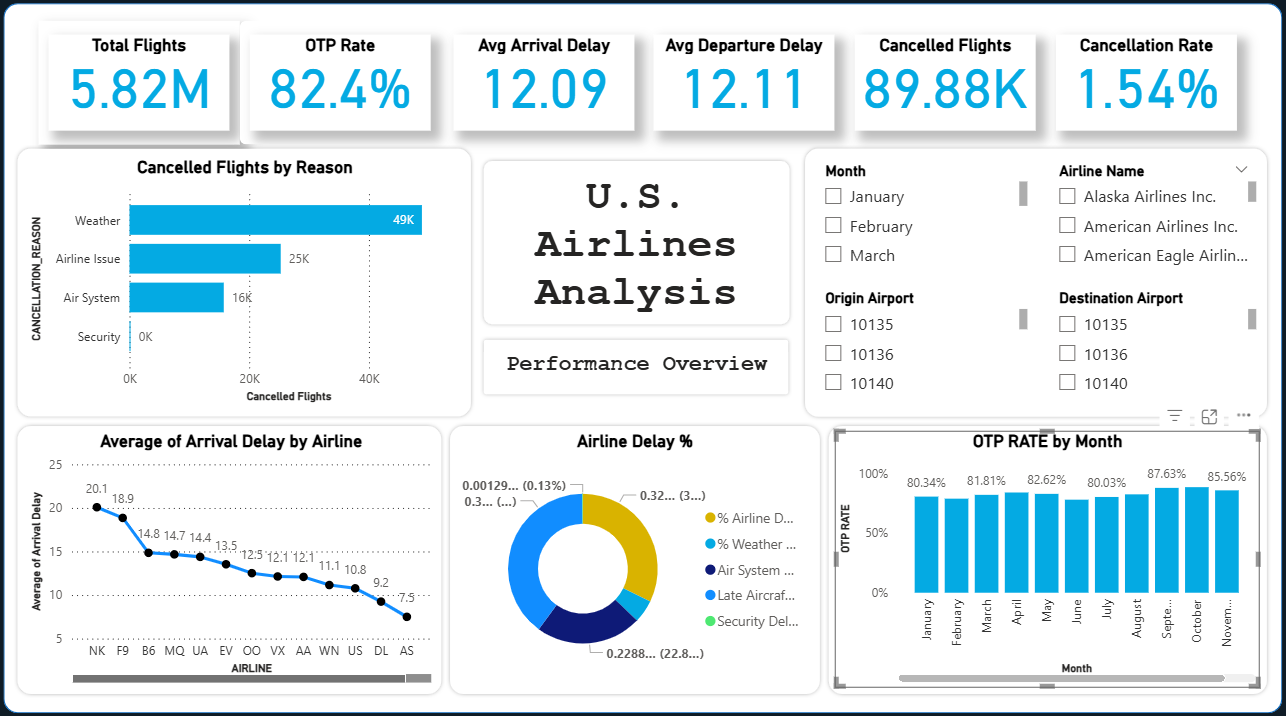

The dashboard page shown, as its layout file describes it:
{"tool":"powerbi","page":{"name":"Overview","canvas":[1280,720],"ordinal":0},"visuals":[{"type":"shape","box":[12.3,11,1255.2,696.9],"z":0},{"type":"shape","box":[818,422,438,271],"z":1000},{"type":"shape","box":[22,422,424,271],"z":2000},{"type":"shape","box":[47,28,197.5,121.5],"z":3000},{"type":"card","title":"Total Flights","fields":{"Values":["CountNonNull(project flights.FLIGHT_NUMBER)"]},"box":[56.4,41.7,177.9,94.5],"z":4000},{"type":"shape","box":[442.9,29.4,197.5,121.5],"z":5000},{"type":"shape","box":[640.5,29.4,197.5,121.5],"z":6000},{"type":"shape","box":[1035.6,29.4,197.5,121.5],"z":7000},{"type":"shape","box":[838,29.4,197.5,121.5],"z":8000},{"type":"shape","box":[479.8,162,308,168.1],"z":9000},{"type":"shape","box":[244.2,28.2,197.5,121.5],"z":10000},{"type":"shape","box":[447,422,371,271],"z":11000},{"type":"card","title":"OTP Rate","fields":{"Values":["project flights.OTP RATE"]},"box":[254,41.7,177.9,94.5],"z":12000},{"type":"card","title":"Avg Arrival Delay","fields":{"Values":["Avg(project flights.ARRIVAL_DELAY)"]},"box":[454,41.7,177.9,94.5],"z":13000},{"type":"card","title":"Avg Departure Delay","fields":{"Values":["Avg(project flights.DEPARTURE_DELAY)"]},"box":[650.3,41.7,177.9,94.5],"z":14000},{"type":"card","title":"Cancelled Flights","fields":{"Values":["CountNonNull(project flights.CANCELLED)"]},"box":[847.9,41.7,177.9,94.5],"z":15000},{"type":"card","title":"Cancellation Rate","fields":{"Values":["project flights.CANCELLATION RATE"]},"box":[1045.4,41.7,177.9,94.5],"z":16000},{"type":"donutChart","title":"Airline Delay %","fields":{"Y":["project flights.% Airline Delay","project flights.% Weather Delay","project flights.Air System Delay (%)","project flights.Late Aircraft Delay (%)","project flights.Security Delay (%)"]},"box":[458,431,349,252],"z":17000},{"type":"lineChart","title":"Average of Arrival Delay by Airline","fields":{"Category":["project flights.AIRLINE"],"Y":["Avg(project flights.ARRIVAL_DELAY)"]},"box":[34,431,403,252],"z":18000},{"type":"clusteredColumnChart","fields":{"Category":["project flights_analysis.FLIGHT_DATE.Variation.Date Hierarchy.Month"],"Y":["project flights.OTP RATE"]},"box":[828,431,418,252],"z":19000},{"type":"shape","box":[22,150,453,271],"z":20000},{"type":"barChart","title":"Cancelled Flights by Reason","fields":{"Category":["project flights_analysis.CANCELLATION_REASON"],"Y":["project flights_analysis.Cancelled Flights"]},"box":[34,162,430,246],"z":21000},{"type":"shape","title":"Fly Emirates Flight Performance Overview","box":[479.8,337.4,306.8,61.4],"z":22000},{"type":"shape","box":[795.1,149.7,461.4,271.2],"z":23000},{"type":"slicer","fields":{"Values":["project flights_analysis.FLIGHT_DATE.Variation.Date Hierarchy.Month"]},"box":[806.1,162,216,120.2],"z":24000},{"type":"slicer","fields":{"Values":["project flights_analysis.AIRLINE_NAME"]},"box":[1035.6,162,211,120.2],"z":25000},{"type":"slicer","fields":{"Values":["project flights_analysis.ORIGIN_AIRPORT"]},"box":[806.1,287.1,216,120.2],"z":26000},{"type":"slicer","fields":{"Values":["project flights_analysis.DESTINATION_AIRPORT"]},"box":[1035.6,287.1,211,120.2],"z":27000},{"type":"card","title":" Performance Overview","fields":{"Values":["project flights_analysis.Cancelled Flights"]},"box":[483.4,353.4,300.6,30.7],"z":28000},{"type":"card","title":"U.S. Airlines Analysis","fields":{"Values":["project flights_analysis.Cancelled Flights"]},"box":[483.4,177.9,300.6,152.1],"z":29000}]}

Visuals, with their boxes in screenshot pixels (x1, y1, x2, y2), scaled from the page's 1280x720 canvas onto the 1286x716 screenshot:
shape: [12, 11, 1273, 704]
shape: [822, 420, 1262, 689]
shape: [22, 420, 448, 689]
shape: [47, 28, 246, 149]
"Total Flights" card: [57, 41, 235, 135]
shape: [445, 29, 643, 150]
shape: [644, 29, 842, 150]
shape: [1040, 29, 1239, 150]
shape: [842, 29, 1040, 150]
shape: [482, 161, 791, 328]
shape: [245, 28, 444, 149]
shape: [449, 420, 822, 689]
"OTP Rate" card: [255, 41, 434, 135]
"Avg Arrival Delay" card: [456, 41, 635, 135]
"Avg Departure Delay" card: [653, 41, 832, 135]
"Cancelled Flights" card: [852, 41, 1031, 135]
"Cancellation Rate" card: [1050, 41, 1229, 135]
"Airline Delay %" donutChart: [460, 429, 811, 679]
"Average of Arrival Delay by Airline" lineChart: [34, 429, 439, 679]
clusteredColumnChart - project flights_analysis.FLIGHT_DATE.Variation.Date Hierarchy.Month x project flights.OTP RATE: [832, 429, 1252, 679]
shape: [22, 149, 477, 419]
"Cancelled Flights by Reason" barChart: [34, 161, 466, 406]
"Fly Emirates Flight Performance Overview" shape: [482, 336, 790, 397]
shape: [799, 149, 1262, 419]
slicer - project flights_analysis.FLIGHT_DATE.Variation.Date Hierarchy.Month: [810, 161, 1027, 281]
slicer - project flights_analysis.AIRLINE_NAME: [1040, 161, 1252, 281]
slicer - project flights_analysis.ORIGIN_AIRPORT: [810, 286, 1027, 405]
slicer - project flights_analysis.DESTINATION_AIRPORT: [1040, 286, 1252, 405]
" Performance Overview" card: [486, 351, 788, 382]
"U.S. Airlines Analysis" card: [486, 177, 788, 328]
